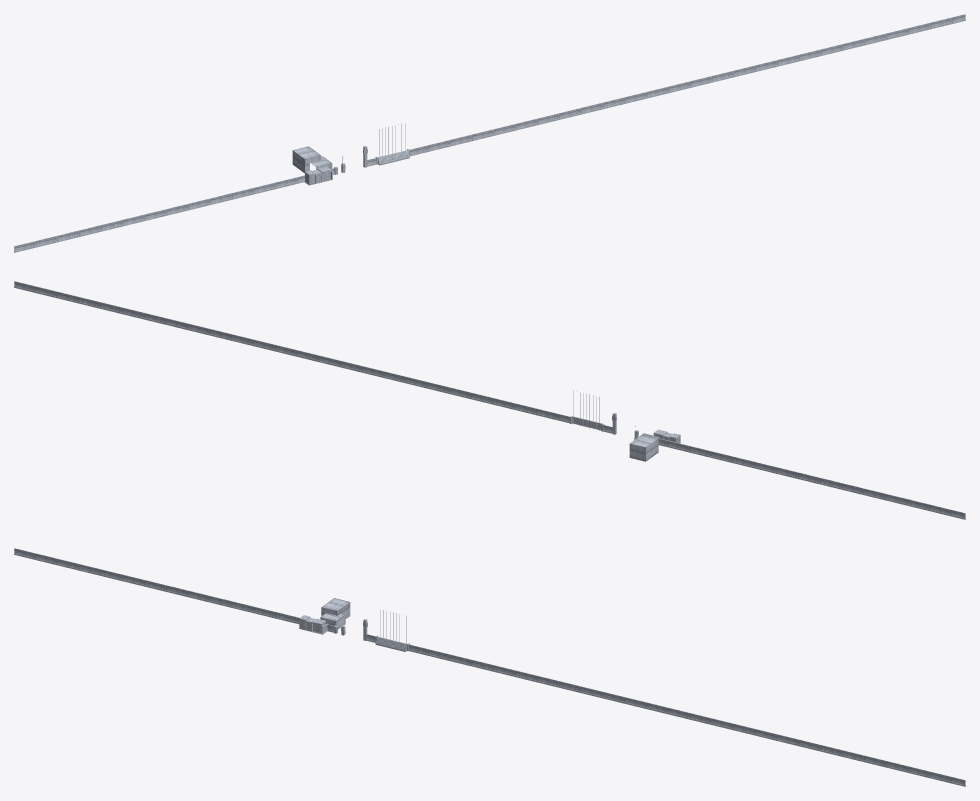
The model's file is tuong_rao_cong_truong.glb.
The picture shows the model from 3 angles, top to bottom: view 1: azimuth 30°, elevation 25°; view 2: azimuth 150°, elevation 25°; view 3: azimuth 330°, elevation 25°; orthographic projection.
Visible parts, largest first — view 1: Mesh10 Group2 Model, Mesh9 Group1 Model, Mesh114 Mesh21_1 Model; view 2: Mesh10 Group2 Model, Mesh9 Group1 Model, Mesh114 Mesh21_1 Model; view 3: Mesh10 Group2 Model, Mesh9 Group1 Model, Mesh114 Mesh21_1 Model.
Part boxes in pixels (<box>): Mesh10 Group2 Model: <box>410,14,965,156</box>; Mesh9 Group1 Model: <box>14,175,304,252</box>; Mesh114 Mesh21_1 Model: <box>292,146,332,173</box>; Mesh10 Group2 Model: <box>14,281,569,423</box>; Mesh9 Group1 Model: <box>658,438,965,519</box>; Mesh114 Mesh21_1 Model: <box>629,433,659,461</box>; Mesh10 Group2 Model: <box>408,644,965,786</box>; Mesh9 Group1 Model: <box>14,548,326,624</box>; Mesh114 Mesh21_1 Model: <box>320,598,350,629</box>.
Bounding box in the file's own units: 294 × 10.07 × 13.8.
1179 materials, 1179 textured.
